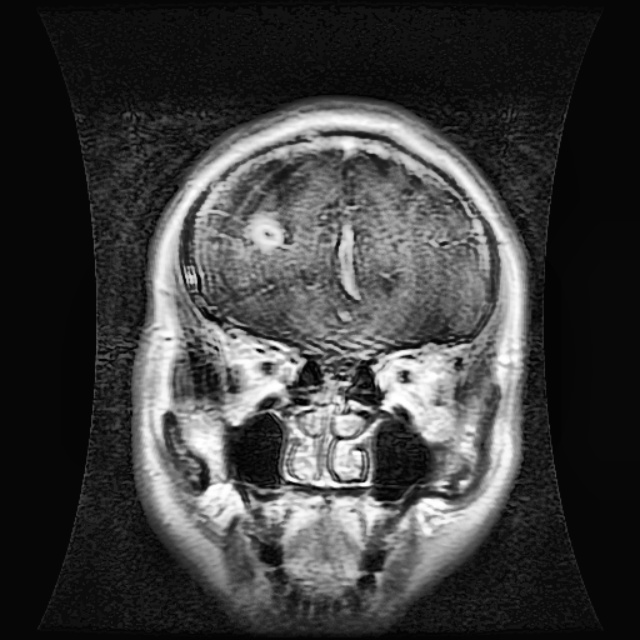Meningioma: (202, 153, 314, 249)
